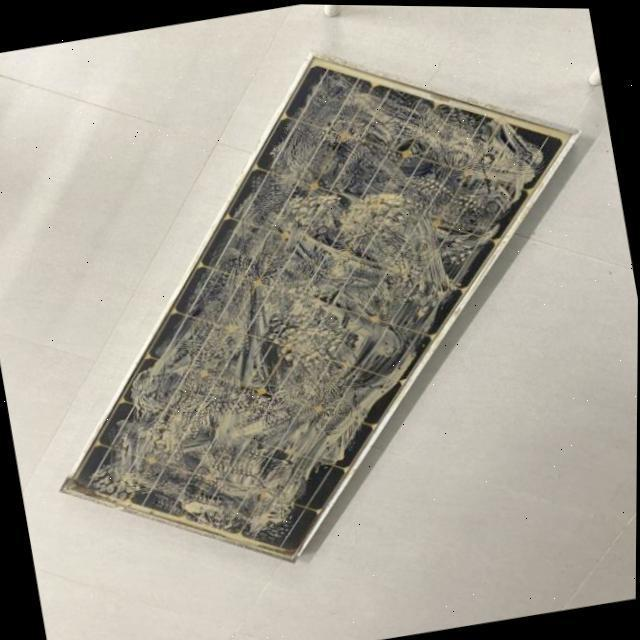Anomaly Solar Panel: (69, 57, 572, 556)
Surface Contaminant: (80, 61, 548, 543)
